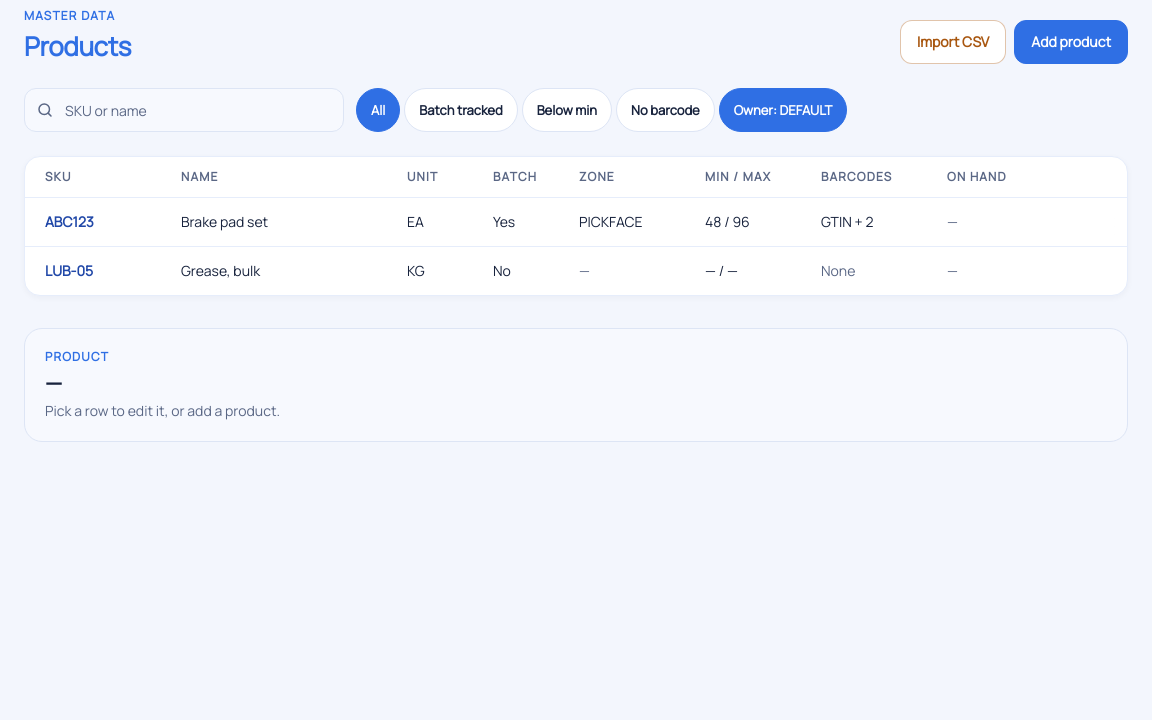
Products › opens a row in the panel with its barcodes and on hand
Click the text "ABC123" at (69, 222), box [45,212,94,231]
(page scrolled)
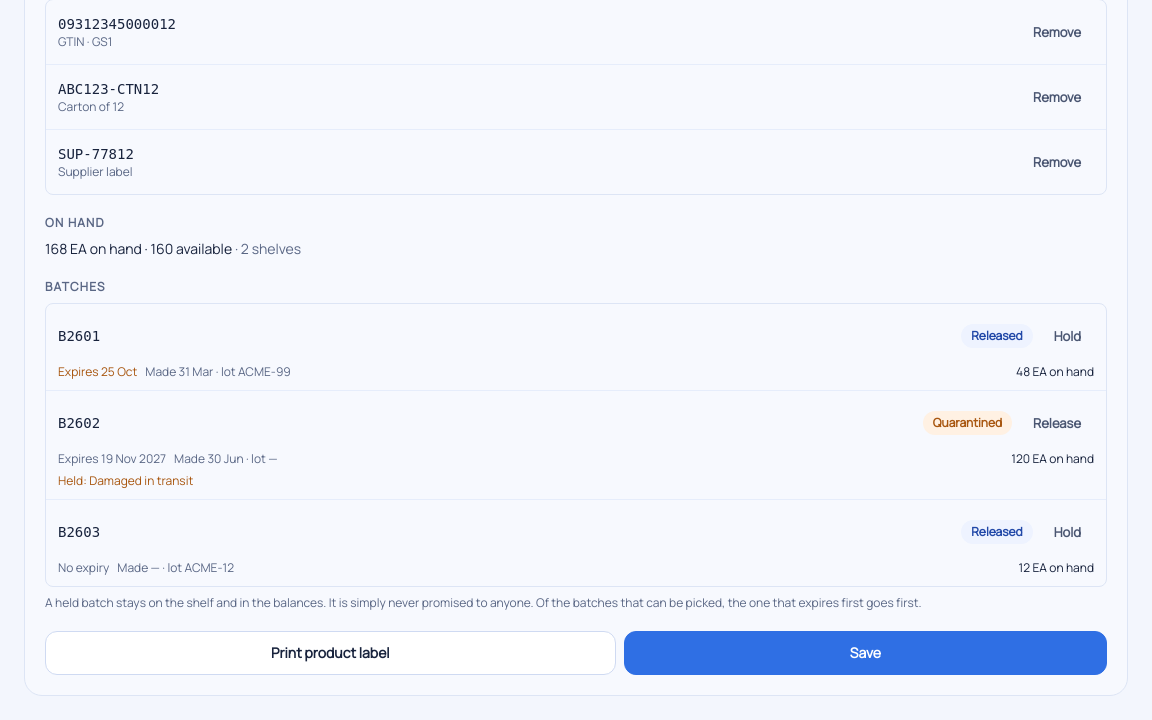
expect the text "09312345000012" is shown: met, box [58,14,176,34]
expect the text "Carton of 12" is shown: met, box [58,98,124,115]
expect the text "Supplier label" is shown: met, box [58,164,134,180]
